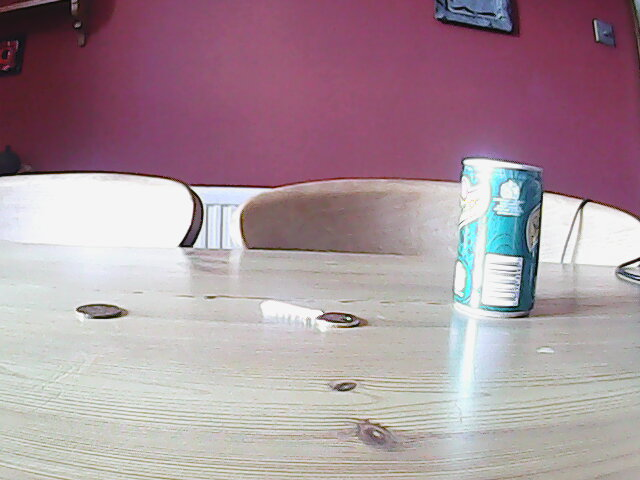Can: (449, 153, 545, 321)
Coin: (71, 302, 124, 323)
Key: (256, 293, 361, 333)
